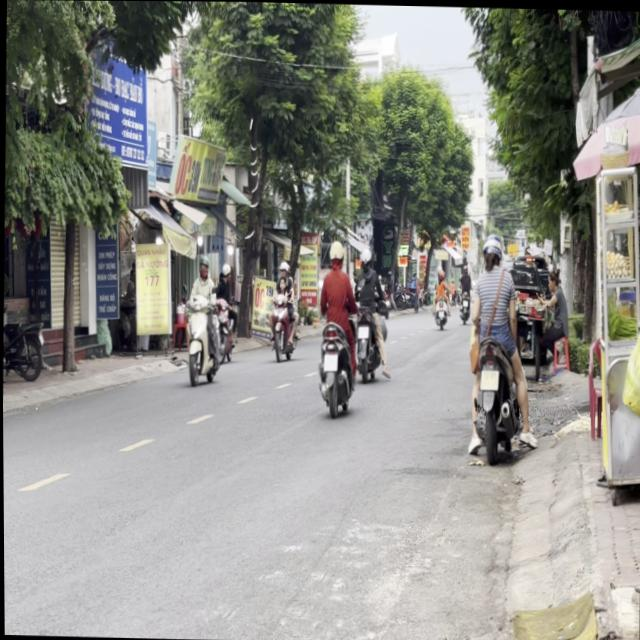helmet: (479, 232, 500, 267), (326, 238, 343, 266), (196, 253, 207, 275)
licenseplate: (460, 228, 531, 462), (312, 237, 357, 415), (180, 251, 219, 385)
nohelmet: (478, 367, 496, 387), (322, 352, 336, 368)
